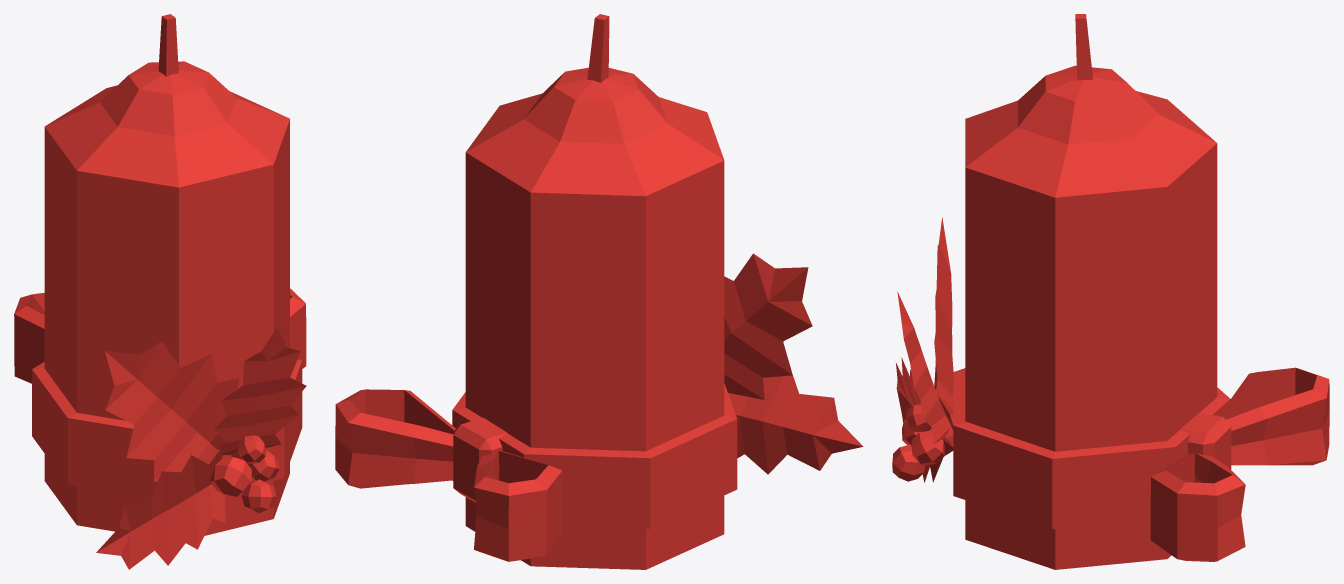
The model's file is SM_Candle_Decorated_Unlit_Christmas.fbx.
3 renders of one model, left to right at view 1: azimuth 30°, elevation 25°; view 2: azimuth 150°, elevation 25°; view 3: azimuth 270°, elevation 25°, orthographic. The views are drawn at different scales.
Visible parts, largest first — view 1: candle-decorated-unlit-christmas; view 2: candle-decorated-unlit-christmas; view 3: candle-decorated-unlit-christmas.
Part boxes in pixels (x1=…): candle-decorated-unlit-christmas: x1=14, y1=14, x2=306, y2=569; candle-decorated-unlit-christmas: x1=335, y1=14, x2=863, y2=569; candle-decorated-unlit-christmas: x1=892, y1=14, x2=1329, y2=569.
Bounding box in the file's own units: 0.1354 × 0.1762 × 0.1403.
